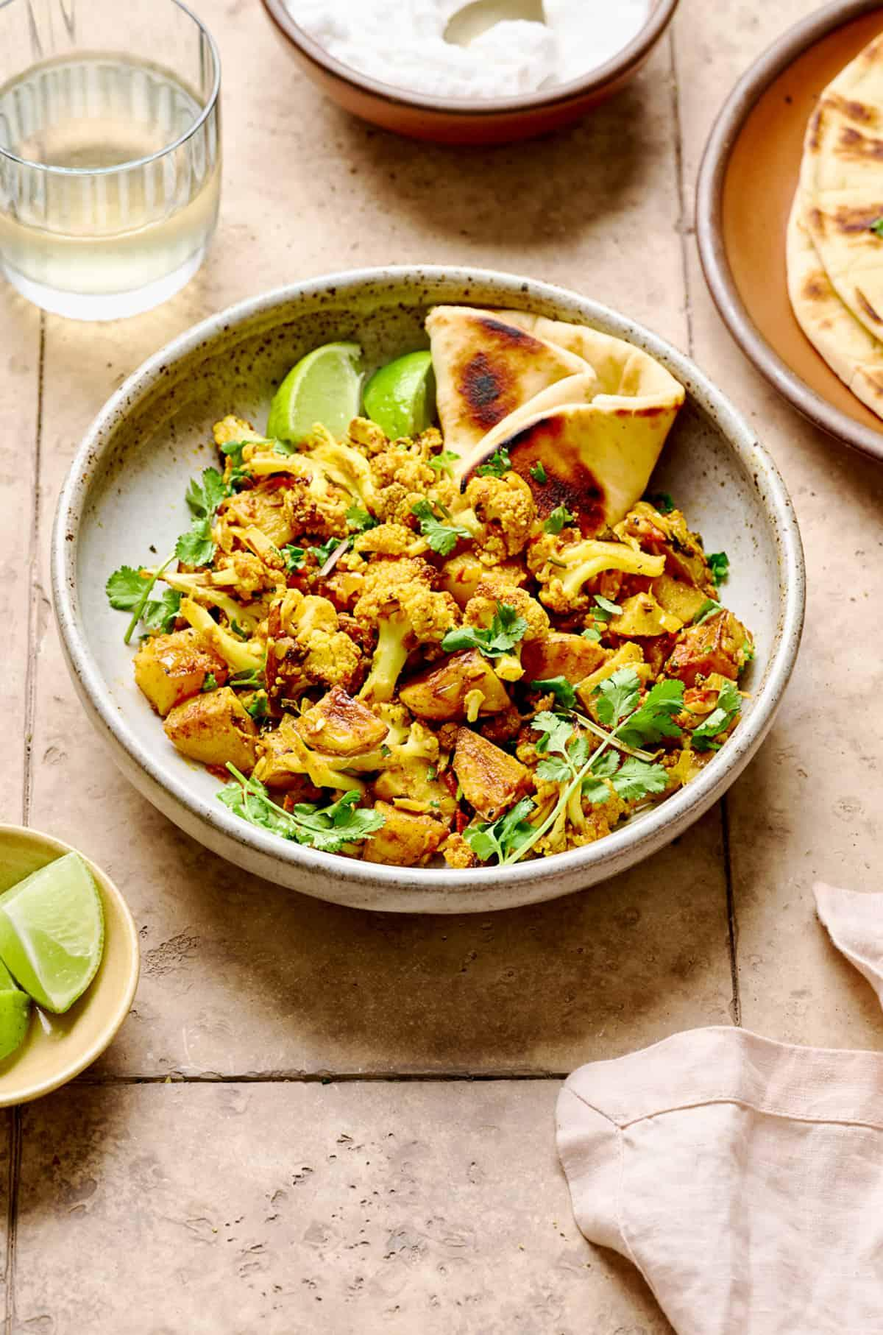aloo gobhi: (158, 470, 744, 832)
roti phulka: (413, 318, 685, 479)
